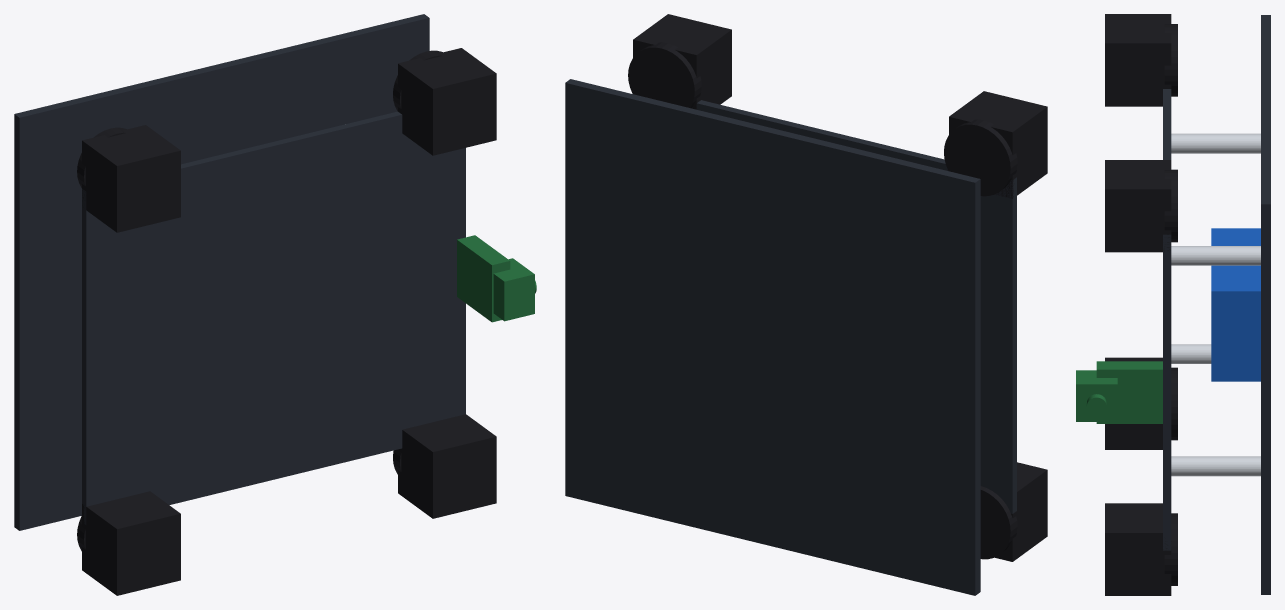
The model's file is chassis.dae.
3 renders of one model, left to right at view 1: azimuth 30°, elevation 25°; view 2: azimuth 150°, elevation 25°; view 3: azimuth 270°, elevation 25°, orthographic. The views are drawn at different scales.
Visible parts, largest first — view 1: RootNode (×3); view 2: RootNode (×2); view 3: RootNode (×5).
Boxes of the visible parts, left/top/right/bottom form: RootNode (×3): left=14, top=14, right=536, bottom=595; RootNode (×2): left=565, top=14, right=1047, bottom=595; RootNode (×5): left=1076, top=14, right=1270, bottom=595.
Size of the model in its own units: 0.28 by 0.2725 by 0.1175.
